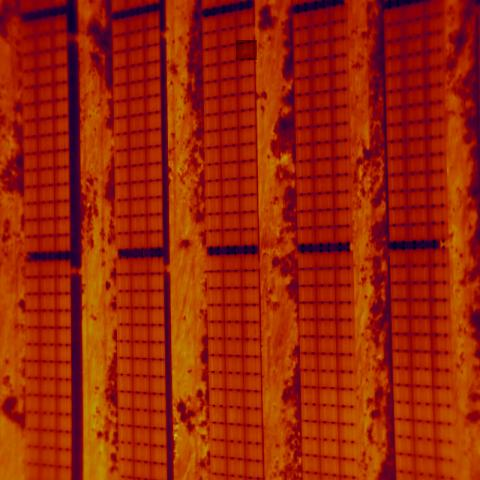fault: (236, 40, 257, 60)
